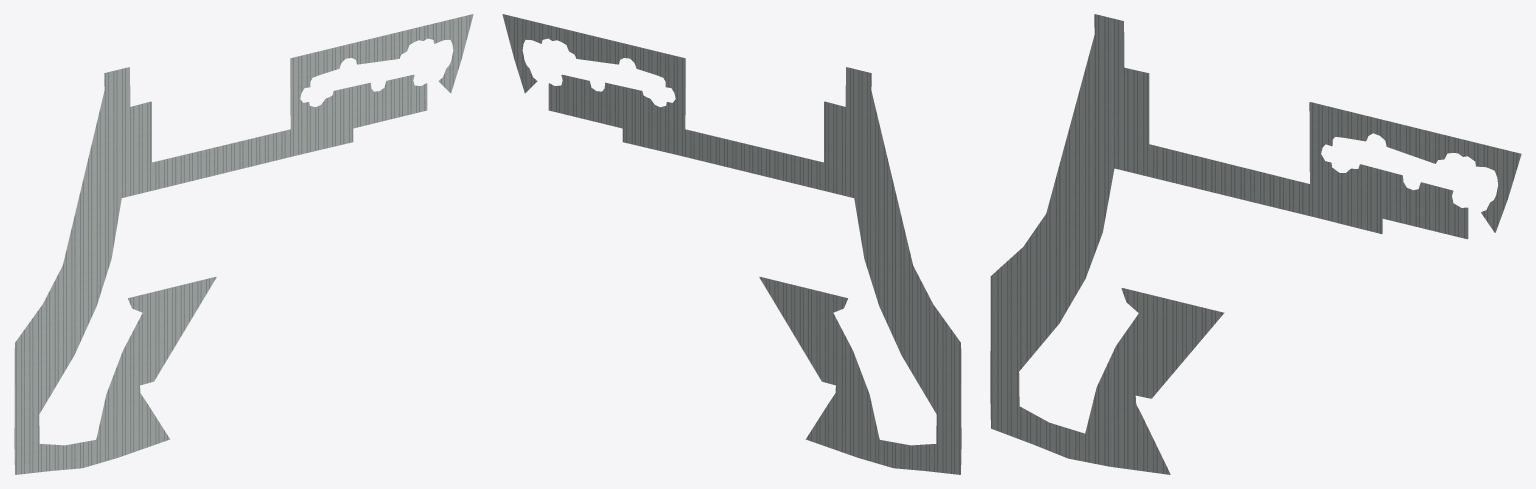
Rendered from floor_50.obj.
3 views of the same model, side by side, from view 1: azimuth 30°, elevation 25°; view 2: azimuth 150°, elevation 25°; view 3: azimuth 330°, elevation 25° (orthographic). The views are drawn at different scales.
Visible parts, largest first — view 1: floor_50; view 2: floor_50; view 3: floor_50.
Part boxes in pixels (x1,y1,x2,y2): floor_50: (14,14,473,474); floor_50: (502,14,961,474); floor_50: (990,14,1521,474).
Bounding box in the file's own units: 54.59 × 44.27 × 0.1.
Materials: 1 (1 with a texture image).
